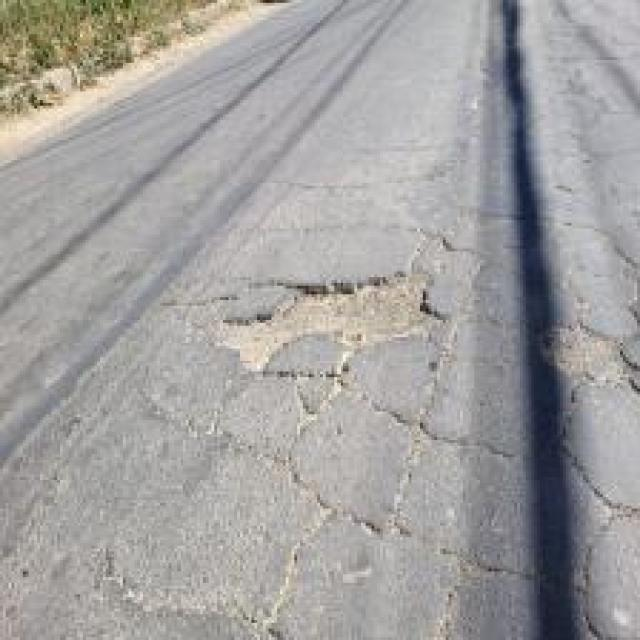BACHE: (218, 276, 436, 370)
PIEL DE COCODRILO: (0, 0, 639, 639)
